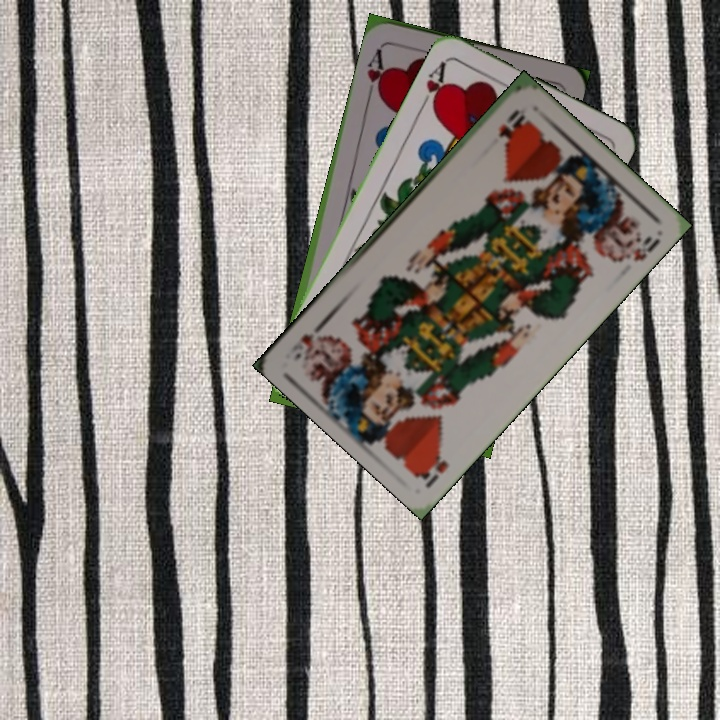HA: (415, 56, 451, 115), (363, 42, 390, 100)
HO: (413, 447, 452, 491), (494, 105, 528, 141)
